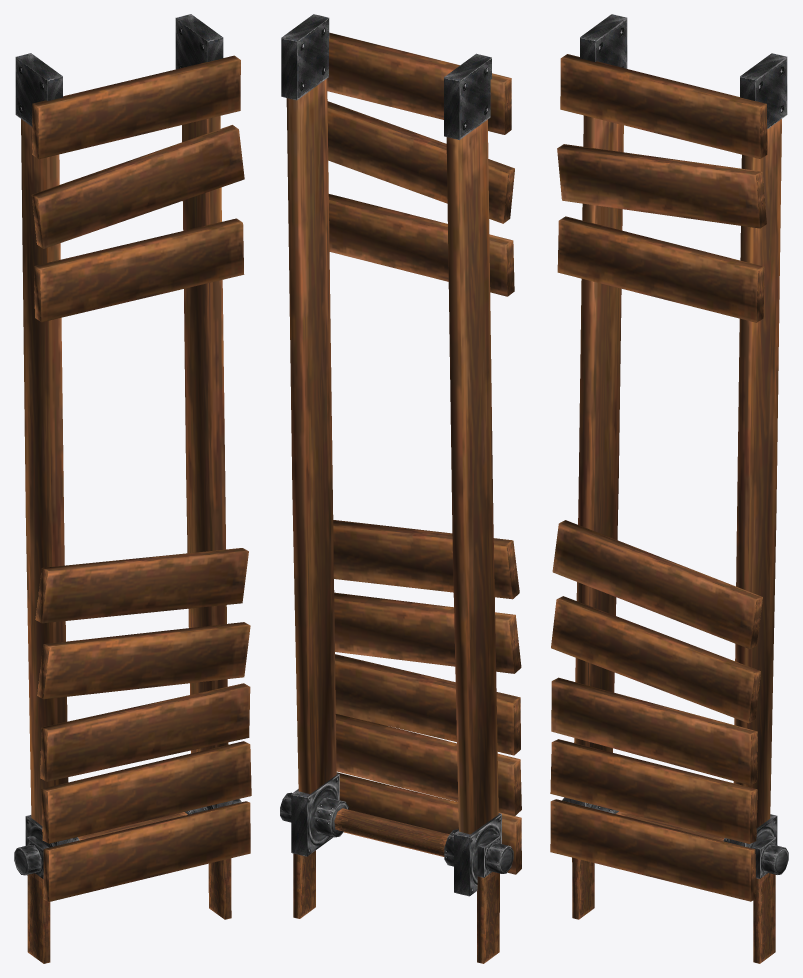
Rendered from INST_SWORDLIGHT_BRIDGE01_ANI.fbx.
3 views of the same model, side by side, from view 1: azimuth 30°, elevation 25°; view 2: azimuth 150°, elevation 25°; view 3: azimuth 330°, elevation 25° (orthographic).
Visible parts, largest first — view 1: INST_SWORDLIGHT_BRIDGE01_ANI; view 2: INST_SWORDLIGHT_BRIDGE01_ANI; view 3: INST_SWORDLIGHT_BRIDGE01_ANI.
Boxes of the visible parts, bbox=[...] form: INST_SWORDLIGHT_BRIDGE01_ANI: bbox=[14, 14, 251, 963]; INST_SWORDLIGHT_BRIDGE01_ANI: bbox=[280, 14, 521, 963]; INST_SWORDLIGHT_BRIDGE01_ANI: bbox=[550, 14, 788, 963].
Size of the model in its own units: 16135 by 62845 by 6343.
4 materials, 4 textured.
